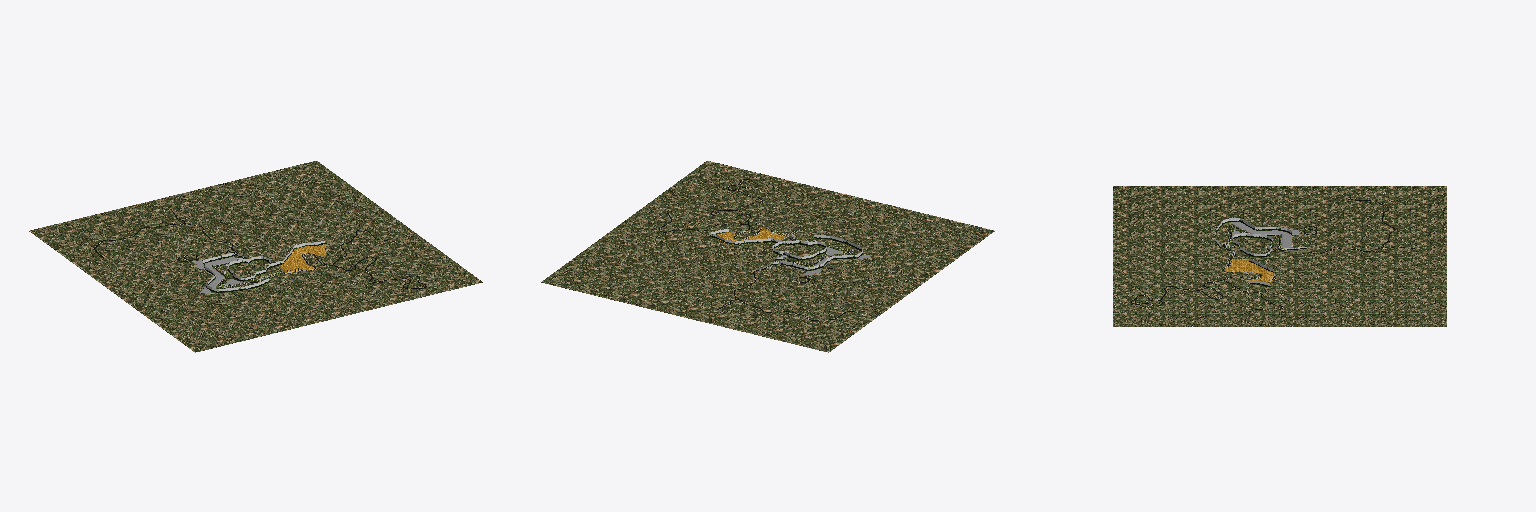
3 views of the same model, side by side, from view 1: azimuth 30°, elevation 25°; view 2: azimuth 150°, elevation 25°; view 3: azimuth 270°, elevation 25° (orthographic).
Visible parts, largest first — view 1: Plane030, Plane158; view 2: Plane030; view 3: Plane030.
Part boxes in pixels (x1,y1,x2,y2): Plane030: (29,161,482,352); Plane158: (280,244,325,272); Plane030: (541,161,994,352); Plane030: (1113,186,1446,326).
Size of the model in its own units: 2749 by 67.33 by 2753.
13 materials, 10 textured.